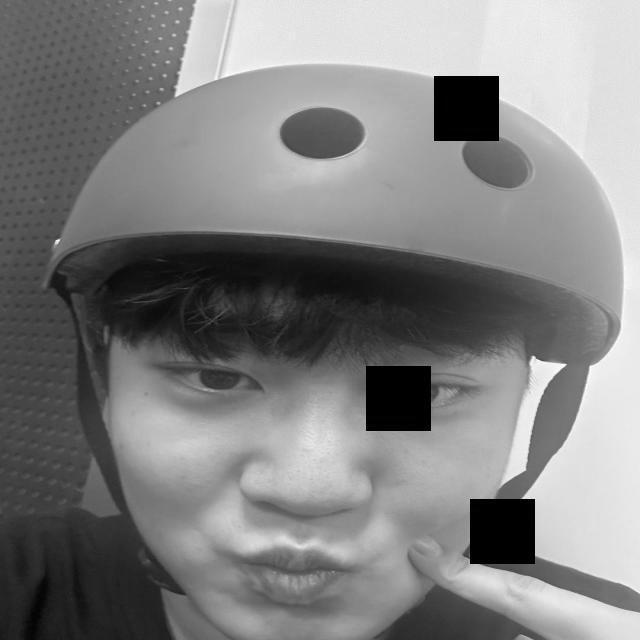helmet: (31, 34, 640, 407)
